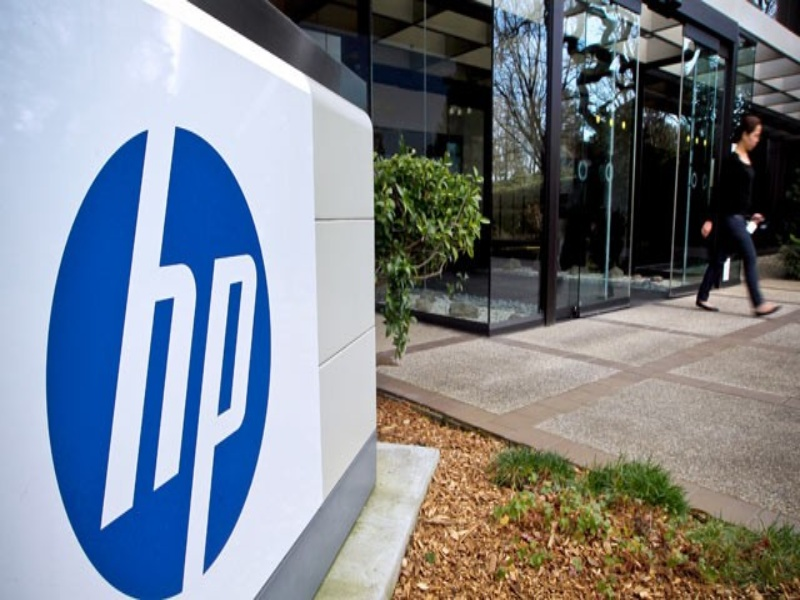hp: (95, 127, 263, 596)
